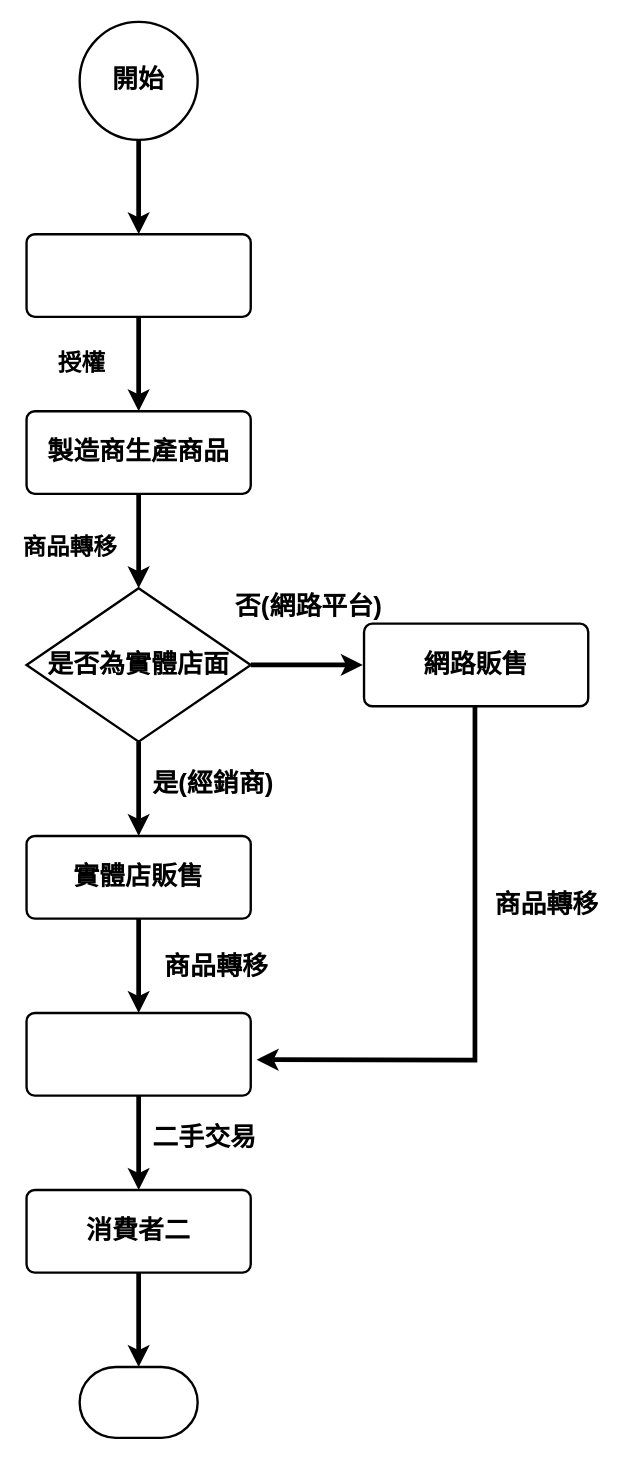
The diagram is 642 pixels wide and 1458 high, and some of its shapes have lost their labels. Each missing label, with the centre of its shape:
公司產生智慧合約: (x=138, y=274)
消費者一: (x=138, y=1053)
結束: (x=138, y=1401)
